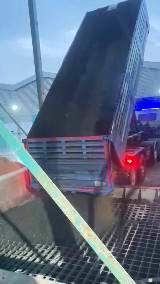gravel: (1, 190, 82, 247), (63, 71, 113, 135), (66, 194, 115, 236)
sand: (1, 157, 21, 175)
